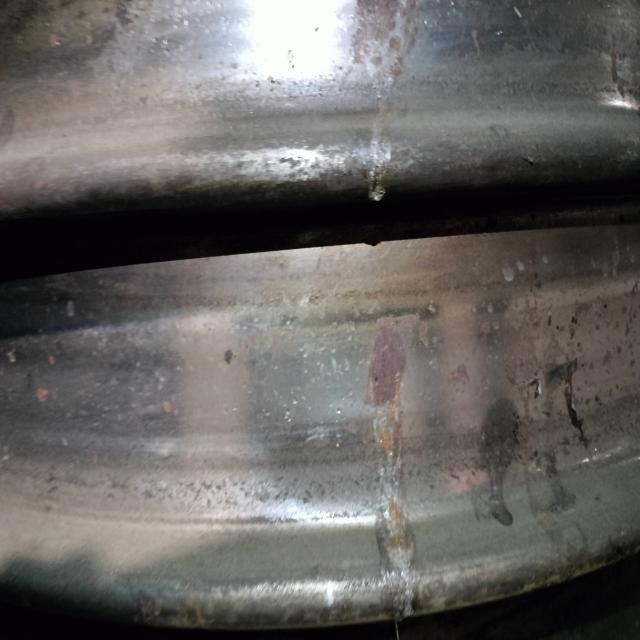Blue hole: (522, 346, 596, 454)
